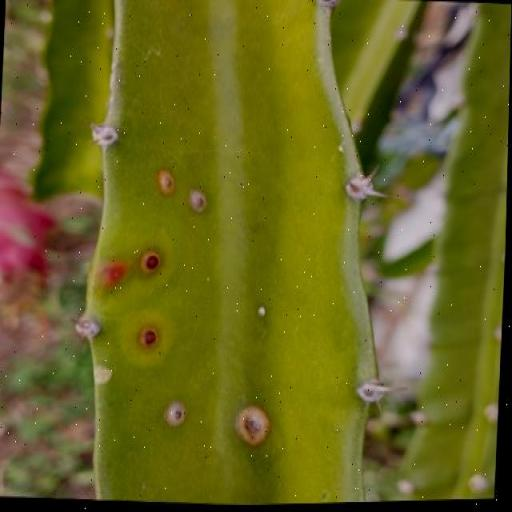stemcanker: (136, 316, 162, 348), (138, 244, 161, 275), (148, 168, 170, 200), (166, 387, 189, 417), (180, 187, 202, 215), (248, 292, 264, 310), (302, 480, 314, 496)
